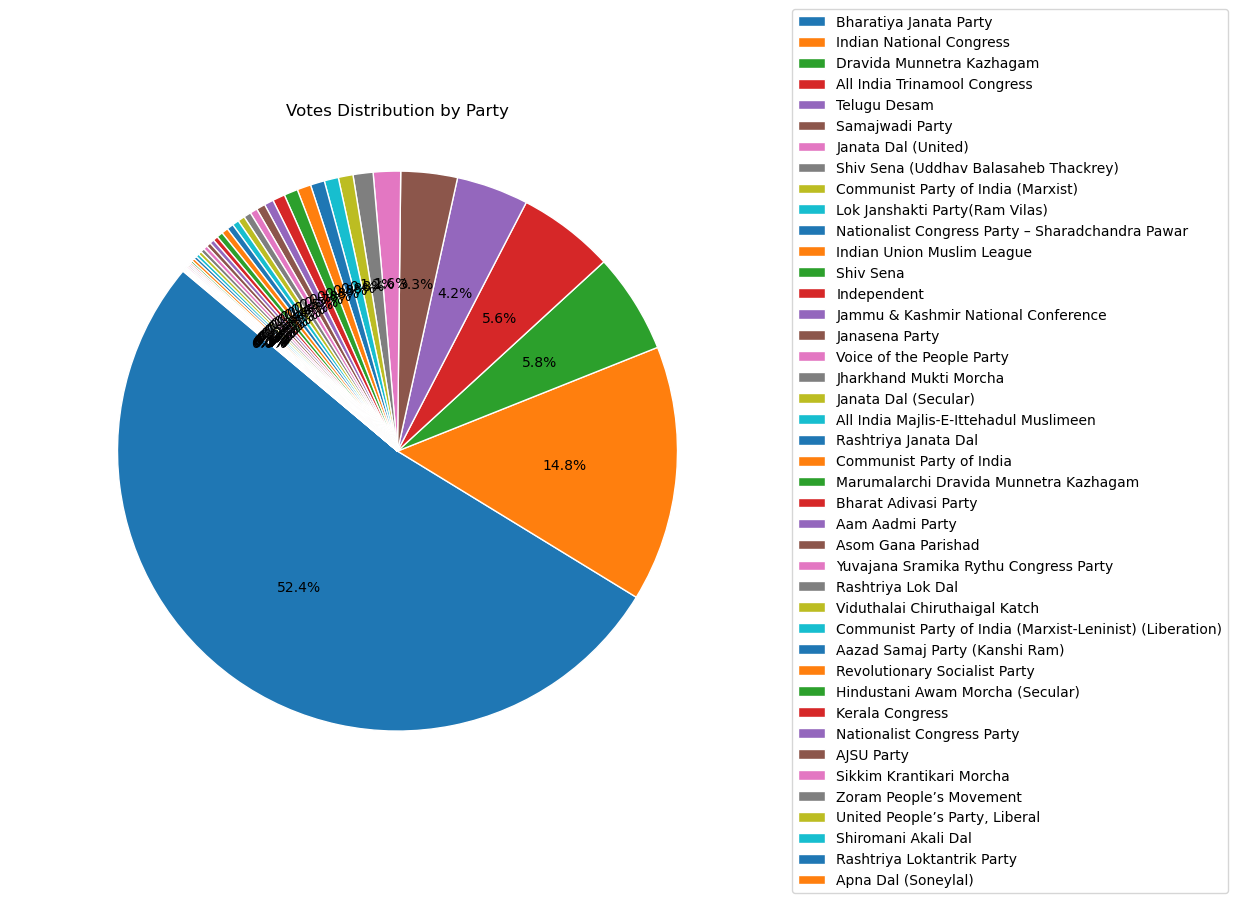

Layout of this report page (visuals, bound fields, positions):
{"tool":"powerbi","page":{"name":"Page 3","canvas":[1280,720],"ordinal":2},"visuals":[{"type":"pieChart","fields":{"Category":["election_results_2024.Leading Party"],"Y":["CountNonNull(election_results_2024.Leading Party)"]},"box":[10.1,0,866.8,703.8],"z":0}]}

Visuals, with their boxes on the page's 1280x720 design canvas (x1, y1, x2, y2). These are canvas units, not pixel positions in the 1237x903 screenshot, which may show the page scaled, cropped or inside an application window:
pieChart - election_results_2024.Leading Party x CountNonNull(election_results_2024.Leading Party): Rect(10, 0, 877, 704)
